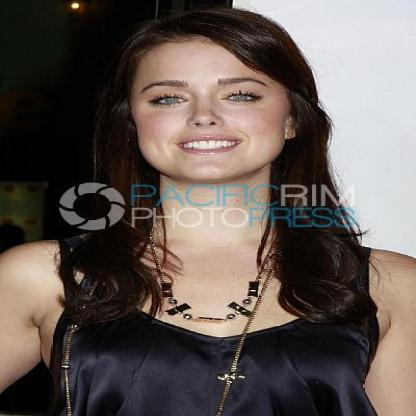long-hair: (56, 182, 360, 261)
